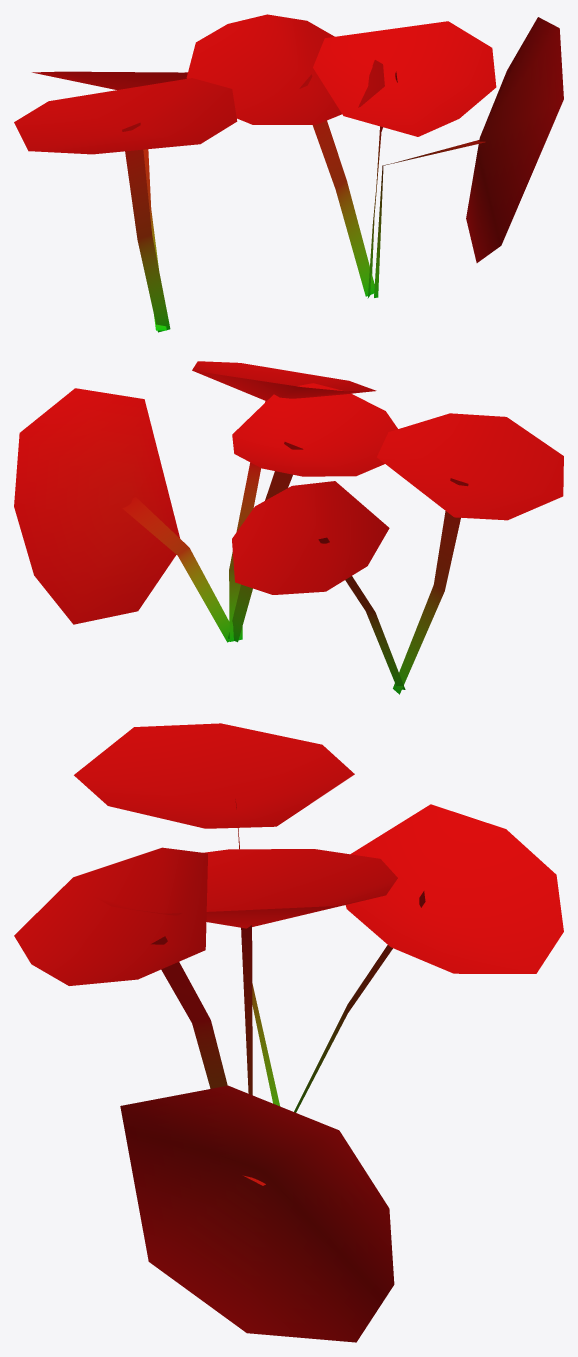
The model's file is Var10_LOD4.fbx.
The picture shows the model from 3 angles, top to bottom: view 1: azimuth 30°, elevation 25°; view 2: azimuth 150°, elevation 25°; view 3: azimuth 270°, elevation 25°; orthographic projection. The views are drawn at different scales.
Parts seen in each view (by area): view 1: _h9h9_Var10_LOD4; view 2: _h9h9_Var10_LOD4; view 3: _h9h9_Var10_LOD4.
Boxes of the visible parts, bbox=[...] form: _h9h9_Var10_LOD4: bbox=[14, 14, 563, 332]; _h9h9_Var10_LOD4: bbox=[14, 361, 563, 694]; _h9h9_Var10_LOD4: bbox=[14, 723, 563, 1342].
Size of the model in its own units: 13.6 by 6.73 by 8.72.
